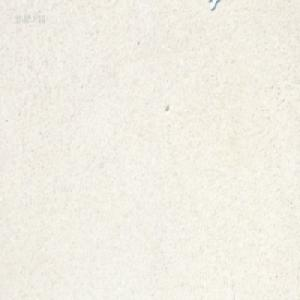Wrench: (208, 0, 222, 11)
